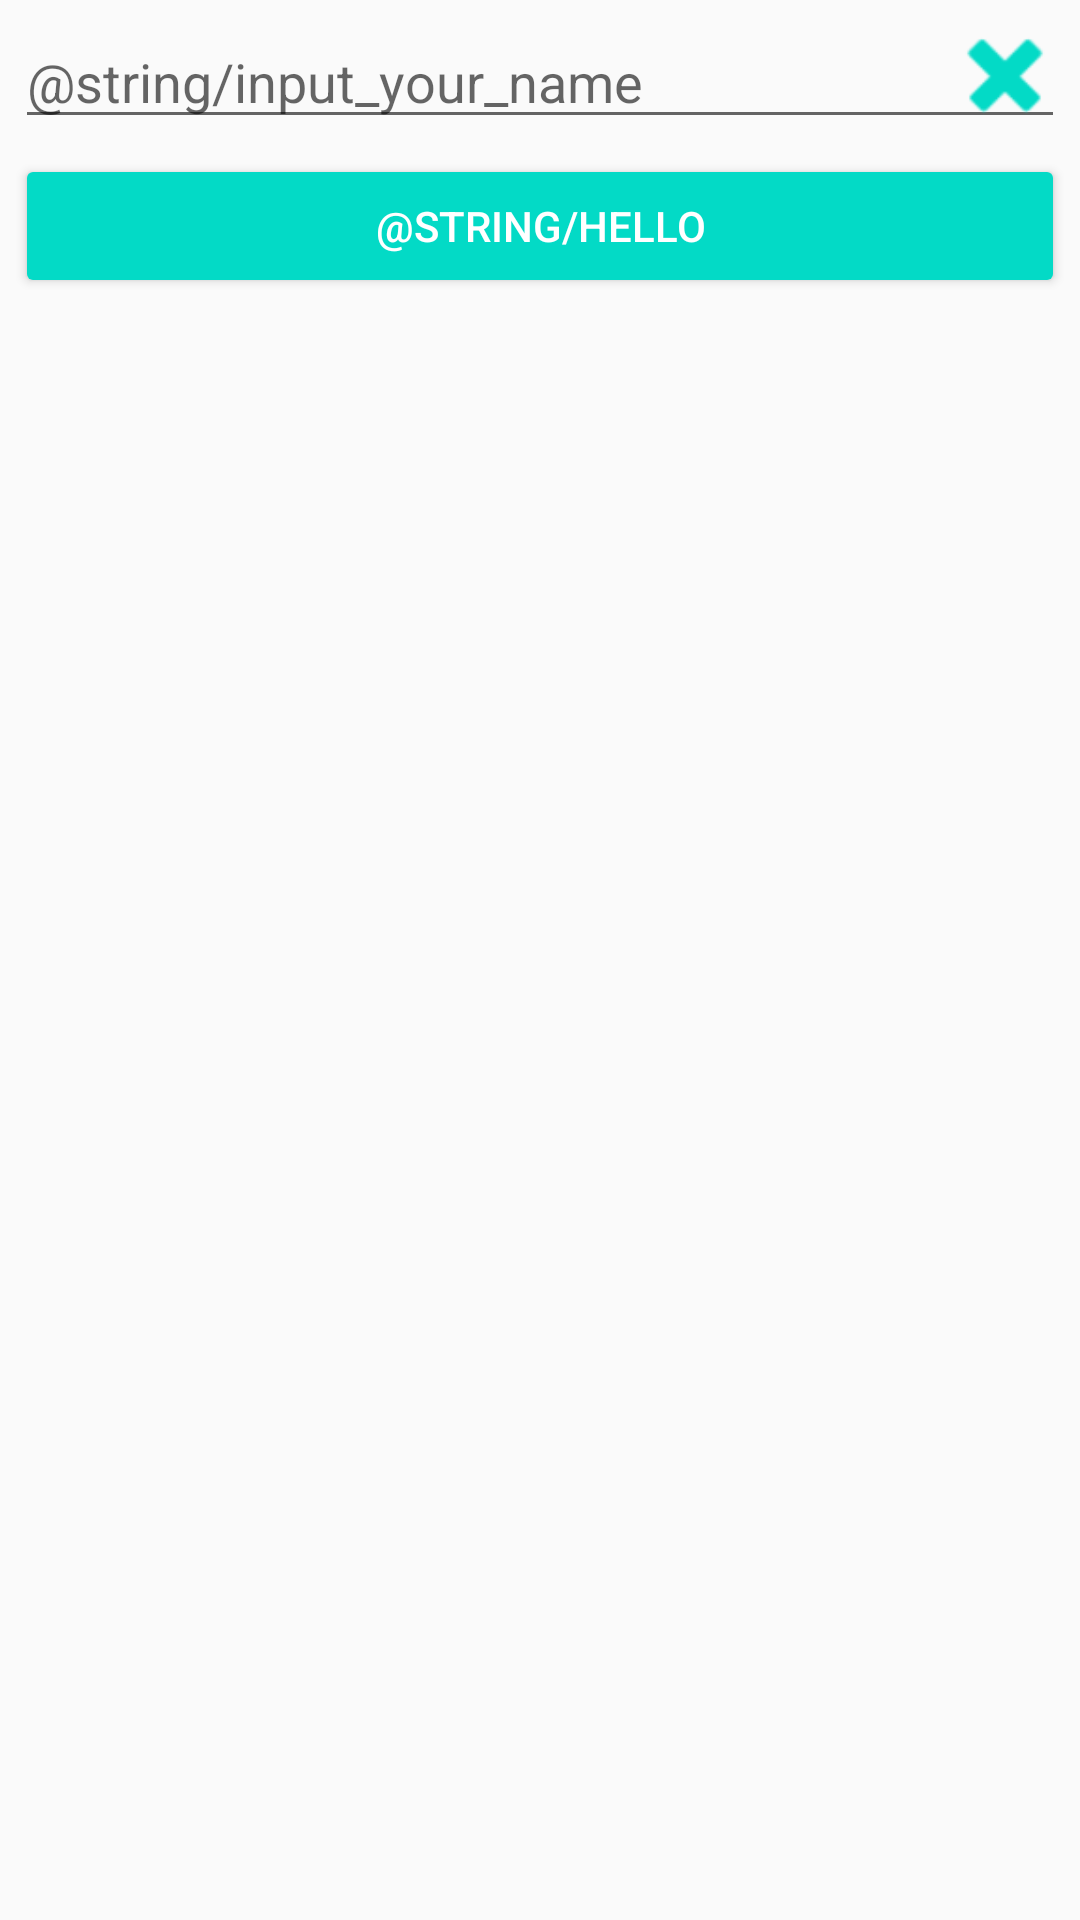

Screen size 1080w x 1920h. Icon name, then its center in pixels as (x=x, y=y):
delete: (x=999, y=77)
